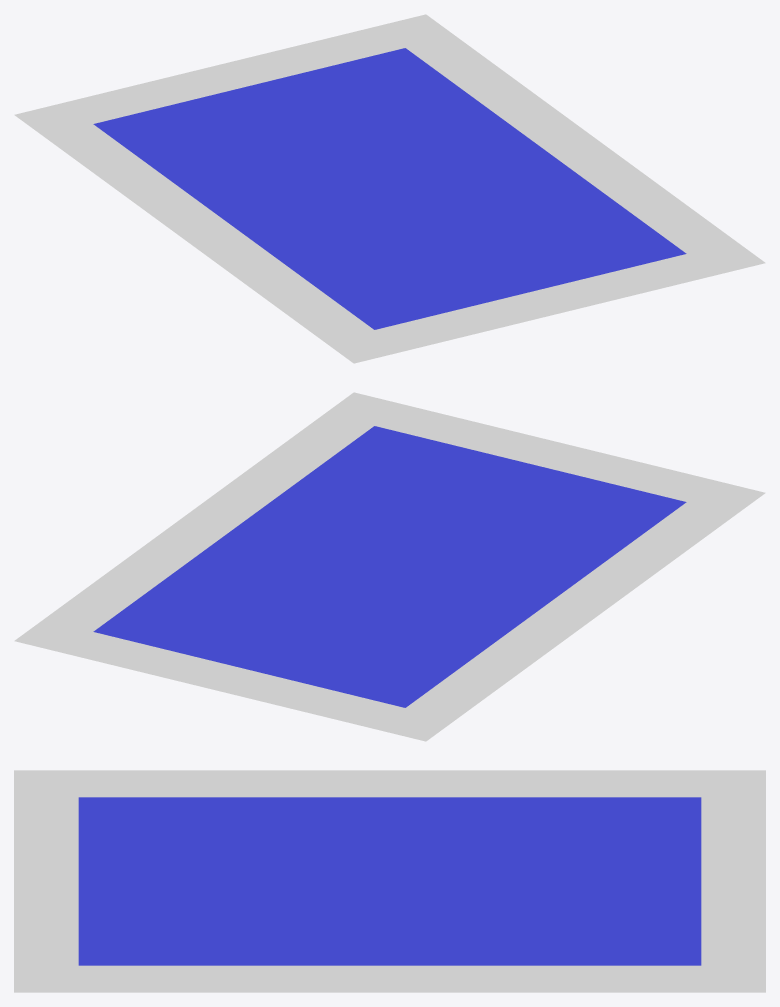
File: PagesTest03.fbx
3 views of the same model, one above another, from view 1: azimuth 30°, elevation 25°; view 2: azimuth 150°, elevation 25°; view 3: azimuth 270°, elevation 25° (orthographic). The views are drawn at different scales.
Visible parts, largest first — view 1: Page3.001; view 2: Page3.001; view 3: Page3.001.
Boxes of the visible parts, x1,y1,x2,y2 form: Page3.001: (14,14,765,363); Page3.001: (14,392,765,741); Page3.001: (14,770,765,992).
Bounding box in the file's own units: 1400 × 2.36 × 2000.
